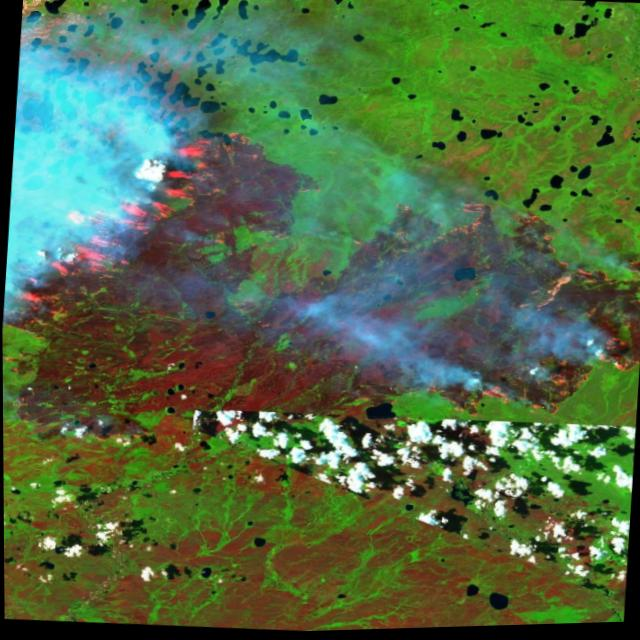fire: (1, 91, 640, 448)
